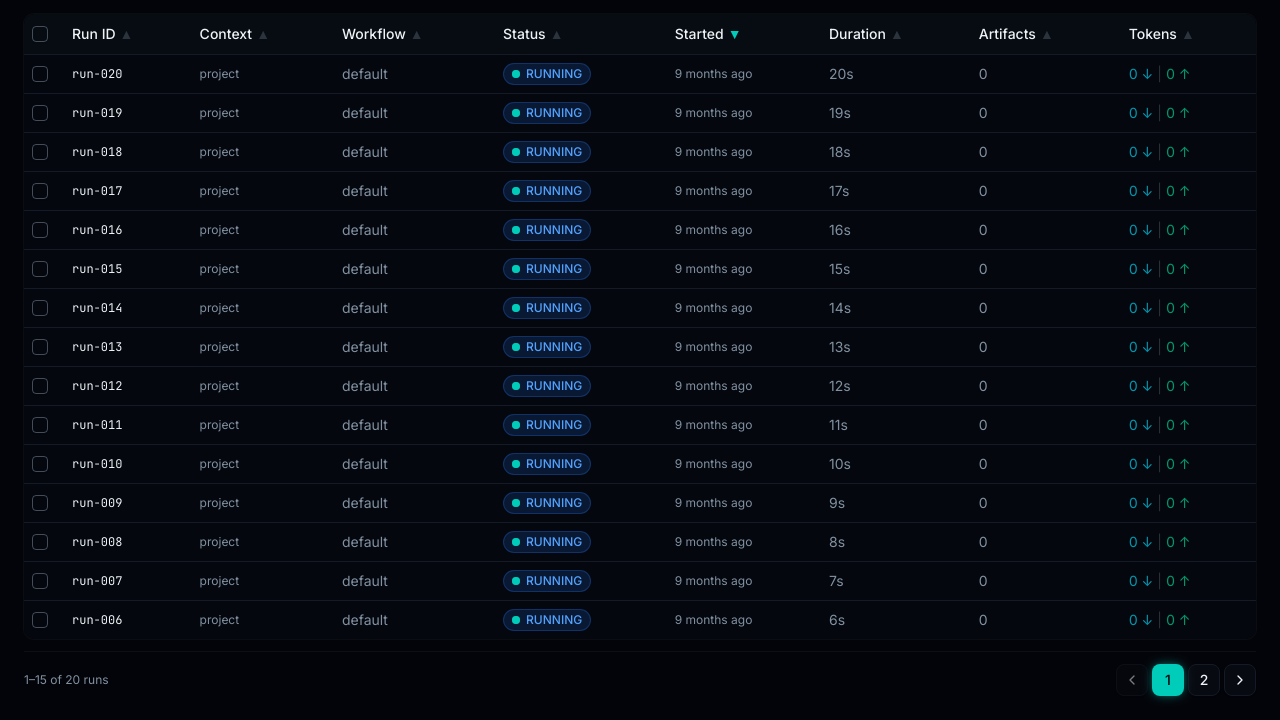
RunListPage - pagination › navigates to a specific page when clicking the page number
(page scrolled)
Click the button named "Page 2": click(1204, 680) [1188,664,1220,696]
(page scrolled)
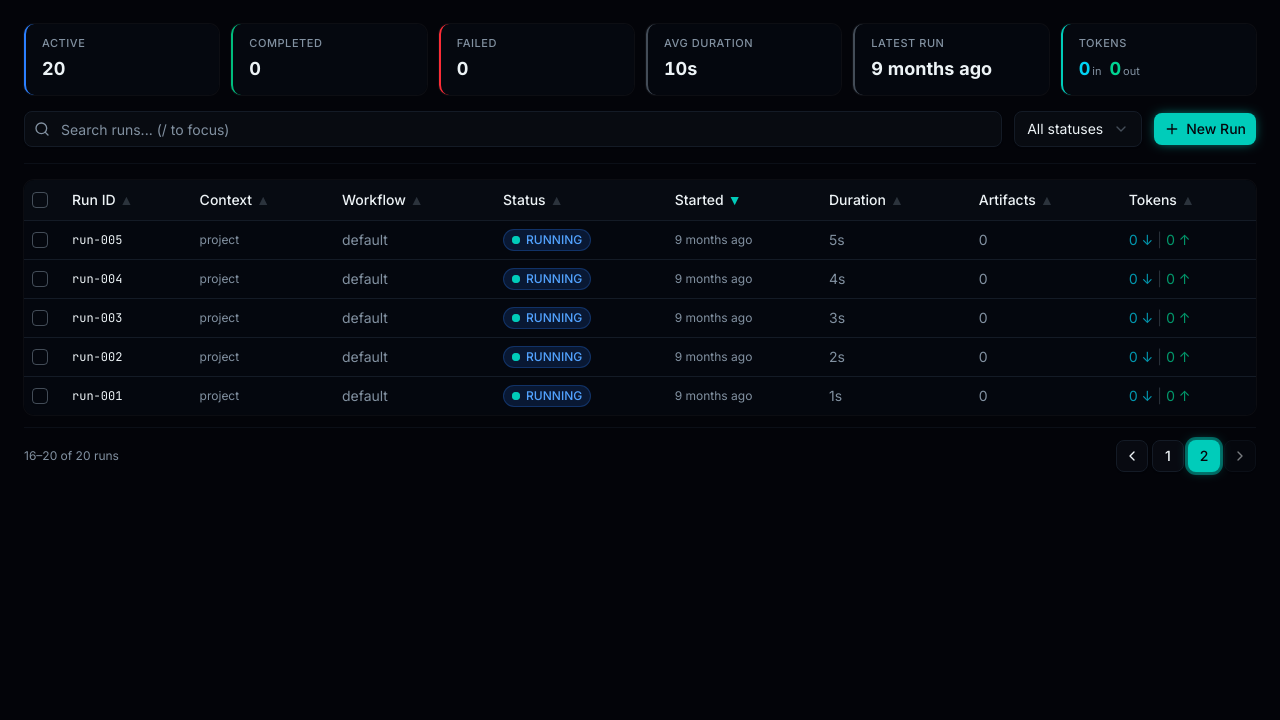
Expected: the text "16–20 of 20 runs" is shown, [24,448,119,464]
